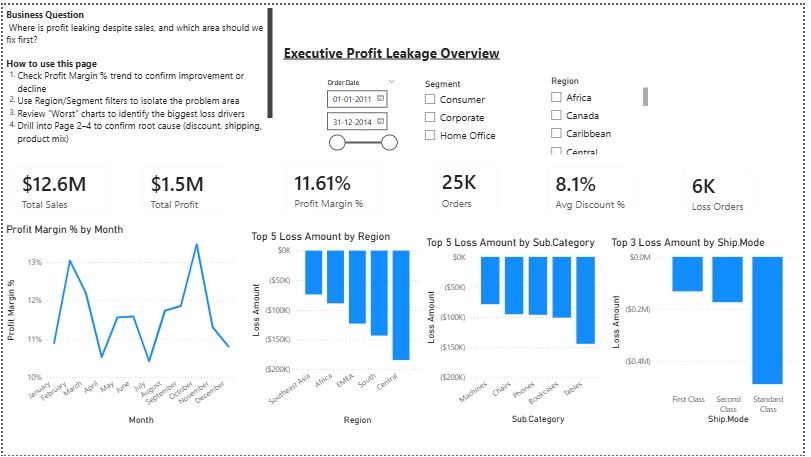

The page's visual inventory and layout, read from the dashboard file:
{"tool":"powerbi","page":{"name":"Executive Scorecard","canvas":[1280,720],"ordinal":0},"visuals":[{"type":"textbox","box":[0,0,436,238],"z":0},{"type":"slicer","fields":{"Values":["superstore.Order.Date"]},"box":[506.3,112.5,133.1,146.8],"z":1000},{"type":"slicer","fields":{"Values":["superstore.Segment"]},"box":[662.8,112.5,200.3,126.2],"z":2000},{"type":"slicer","fields":{"Values":["superstore.Region"]},"box":[863.1,107,172.9,135.8],"z":3000},{"type":"cardVisual","fields":{"Data":["superstore.Total Sales"]},"box":[0,242,188,106],"z":4000},{"type":"cardVisual","fields":{"Data":["superstore.Total Profit"]},"box":[206,242,170,106],"z":5000},{"type":"cardVisual","fields":{"Data":["superstore.Profit Margin %"]},"box":[436.4,237.4,188,111.1],"z":6000},{"type":"cardVisual","fields":{"Data":["superstore.Orders"]},"box":[671,237.4,137.2,109.8],"z":7000},{"type":"cardVisual","fields":{"Data":["superstore.Avg Discount %"]},"box":[853.5,242.9,172.9,105.7],"z":8000},{"type":"cardVisual","fields":{"Data":["superstore.Loss Orders"]},"box":[1071.7,248.4,146.8,100.2],"z":9000},{"type":"lineChart","fields":{"Y":["superstore.Profit Margin %"],"Category":["superstore.Order.Date.Variation.Date Hierarchy.Month"]},"box":[0,347.2,376,329.3],"z":10000},{"type":"clusteredColumnChart","title":"Top 5 Loss Amount by Region","fields":{"Category":["superstore.Region"],"Y":["superstore.Loss Amount"]},"box":[392.5,359.5,278.6,317],"z":11000},{"type":"clusteredColumnChart","title":"Top 5 Loss Amount by Sub.Category","fields":{"Category":["superstore.Sub.Category"],"Y":["superstore.Loss Amount"]},"box":[671,370.5,296.4,306],"z":12000},{"type":"clusteredColumnChart","title":"Top 3 Loss Amount by Ship.Mode","fields":{"Category":["superstore.Ship.Mode"],"Y":["superstore.Loss Amount"]},"box":[967.4,370.5,312.9,306],"z":13000},{"type":"textbox","box":[443.2,56.3,376,41.2],"z":14000}]}

Visuals, with their boxes in screenshot pixels (x1, y1, x2, y2), scaled from the page's 1280x720 canvas onto the 811x457 screenshot:
textbox: detection(0, 0, 276, 151)
slicer - superstore.Order.Date: detection(321, 71, 405, 165)
slicer - superstore.Segment: detection(420, 71, 547, 152)
slicer - superstore.Region: detection(547, 68, 656, 154)
cardVisual - superstore.Total Sales: detection(0, 154, 119, 221)
cardVisual - superstore.Total Profit: detection(131, 154, 238, 221)
cardVisual - superstore.Profit Margin %: detection(277, 151, 396, 221)
cardVisual - superstore.Orders: detection(425, 151, 512, 220)
cardVisual - superstore.Avg Discount %: detection(541, 154, 650, 221)
cardVisual - superstore.Loss Orders: detection(679, 158, 772, 221)
lineChart - superstore.Profit Margin % x superstore.Order.Date.Variation.Date Hierarchy.Month: detection(0, 220, 238, 429)
"Top 5 Loss Amount by Region" clusteredColumnChart: detection(249, 228, 425, 429)
"Top 5 Loss Amount by Sub.Category" clusteredColumnChart: detection(425, 235, 613, 429)
"Top 3 Loss Amount by Ship.Mode" clusteredColumnChart: detection(613, 235, 810, 429)
textbox: detection(281, 36, 519, 62)
